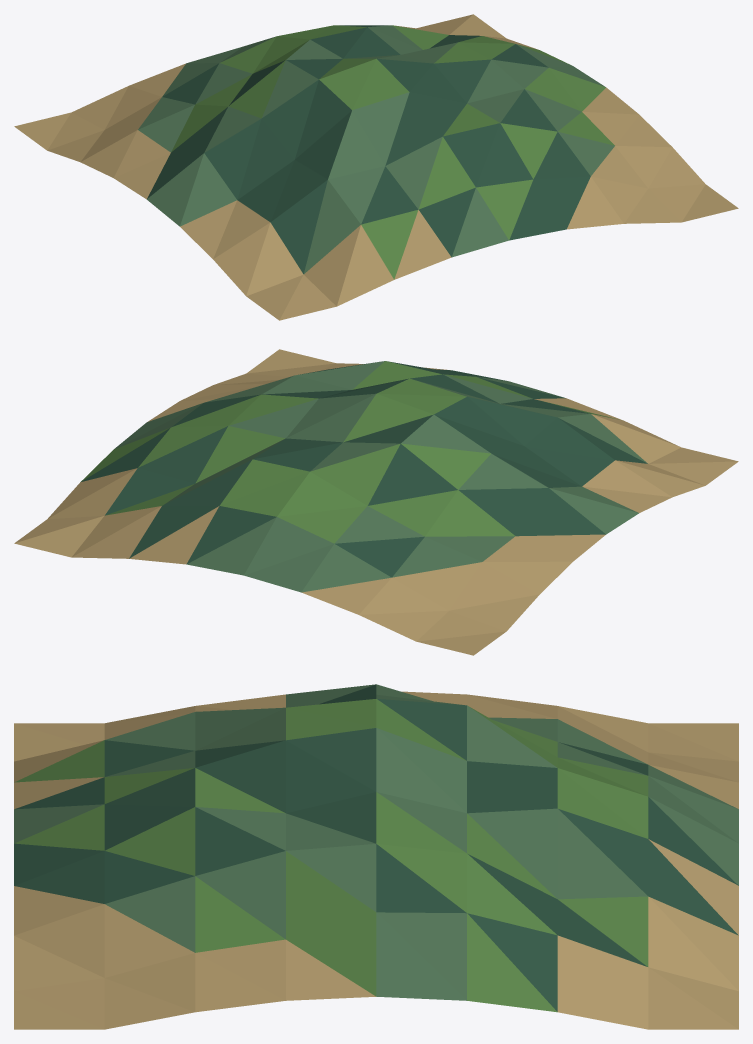
The model's file is landscape-island.lod0.glb.
The picture shows the model from 3 angles, top to bottom: view 1: azimuth 30°, elevation 25°; view 2: azimuth 150°, elevation 25°; view 3: azimuth 270°, elevation 25°; orthographic projection. The views are drawn at different scales.
Visible parts, largest first — view 1: landscape-island__body; view 2: landscape-island__body; view 3: landscape-island__body.
Part boxes in pixels (left/top/right/bottom): landscape-island__body: left=14, top=14, right=738, bottom=320; landscape-island__body: left=14, top=349, right=738, bottom=655; landscape-island__body: left=14, top=684, right=738, bottom=1029.
Size of the model in its own units: 8 by 1.81 by 8.
